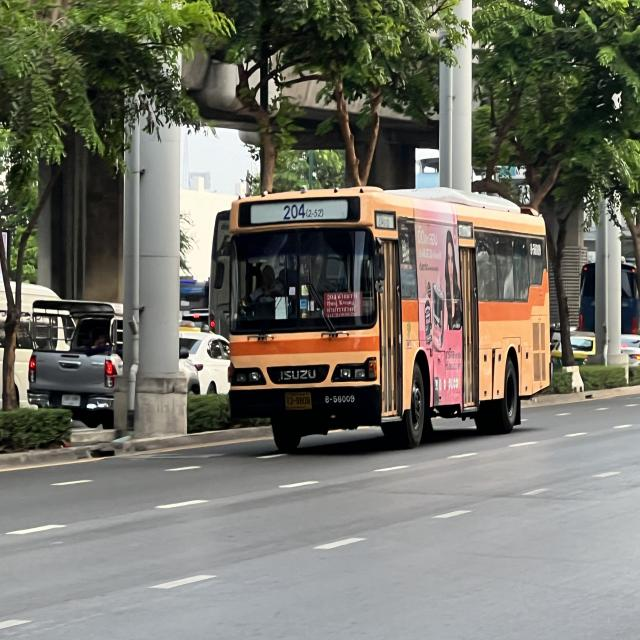BMTA-bus: (223, 180, 554, 443)
Bus-Line-Number: (280, 201, 326, 220)
Destination-Sign-Extra-Bus: (325, 292, 364, 317)
